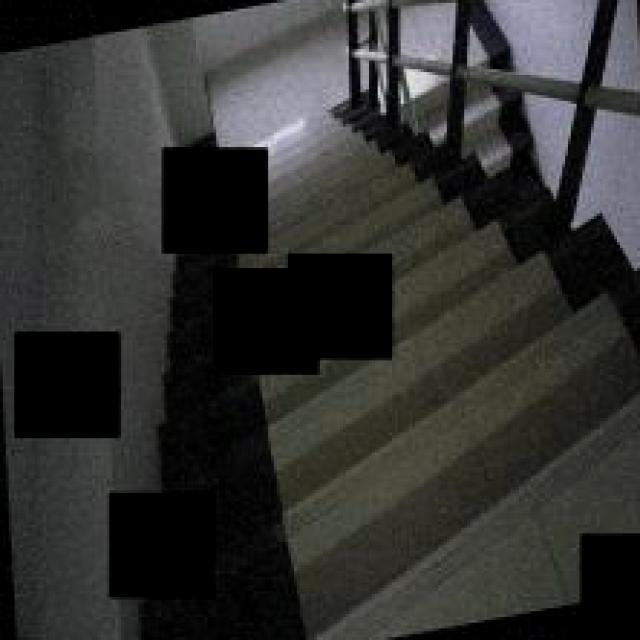downstair: (255, 401, 569, 640)
